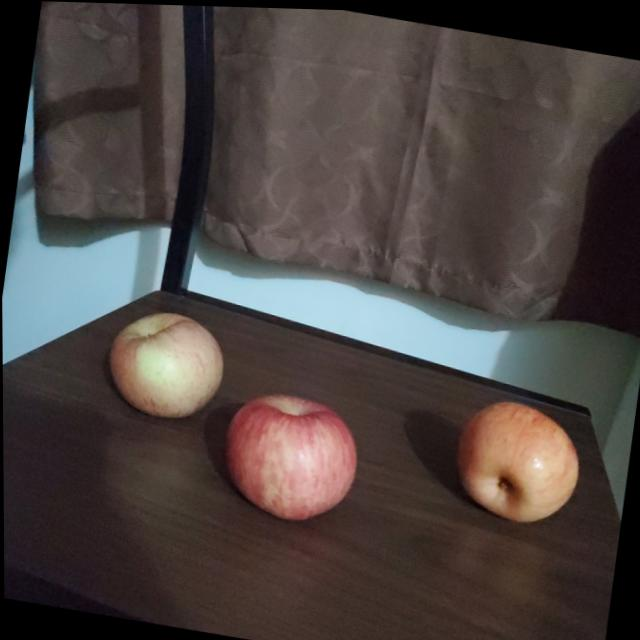apple: (216, 387, 364, 530), (448, 391, 586, 528), (101, 302, 229, 423)
